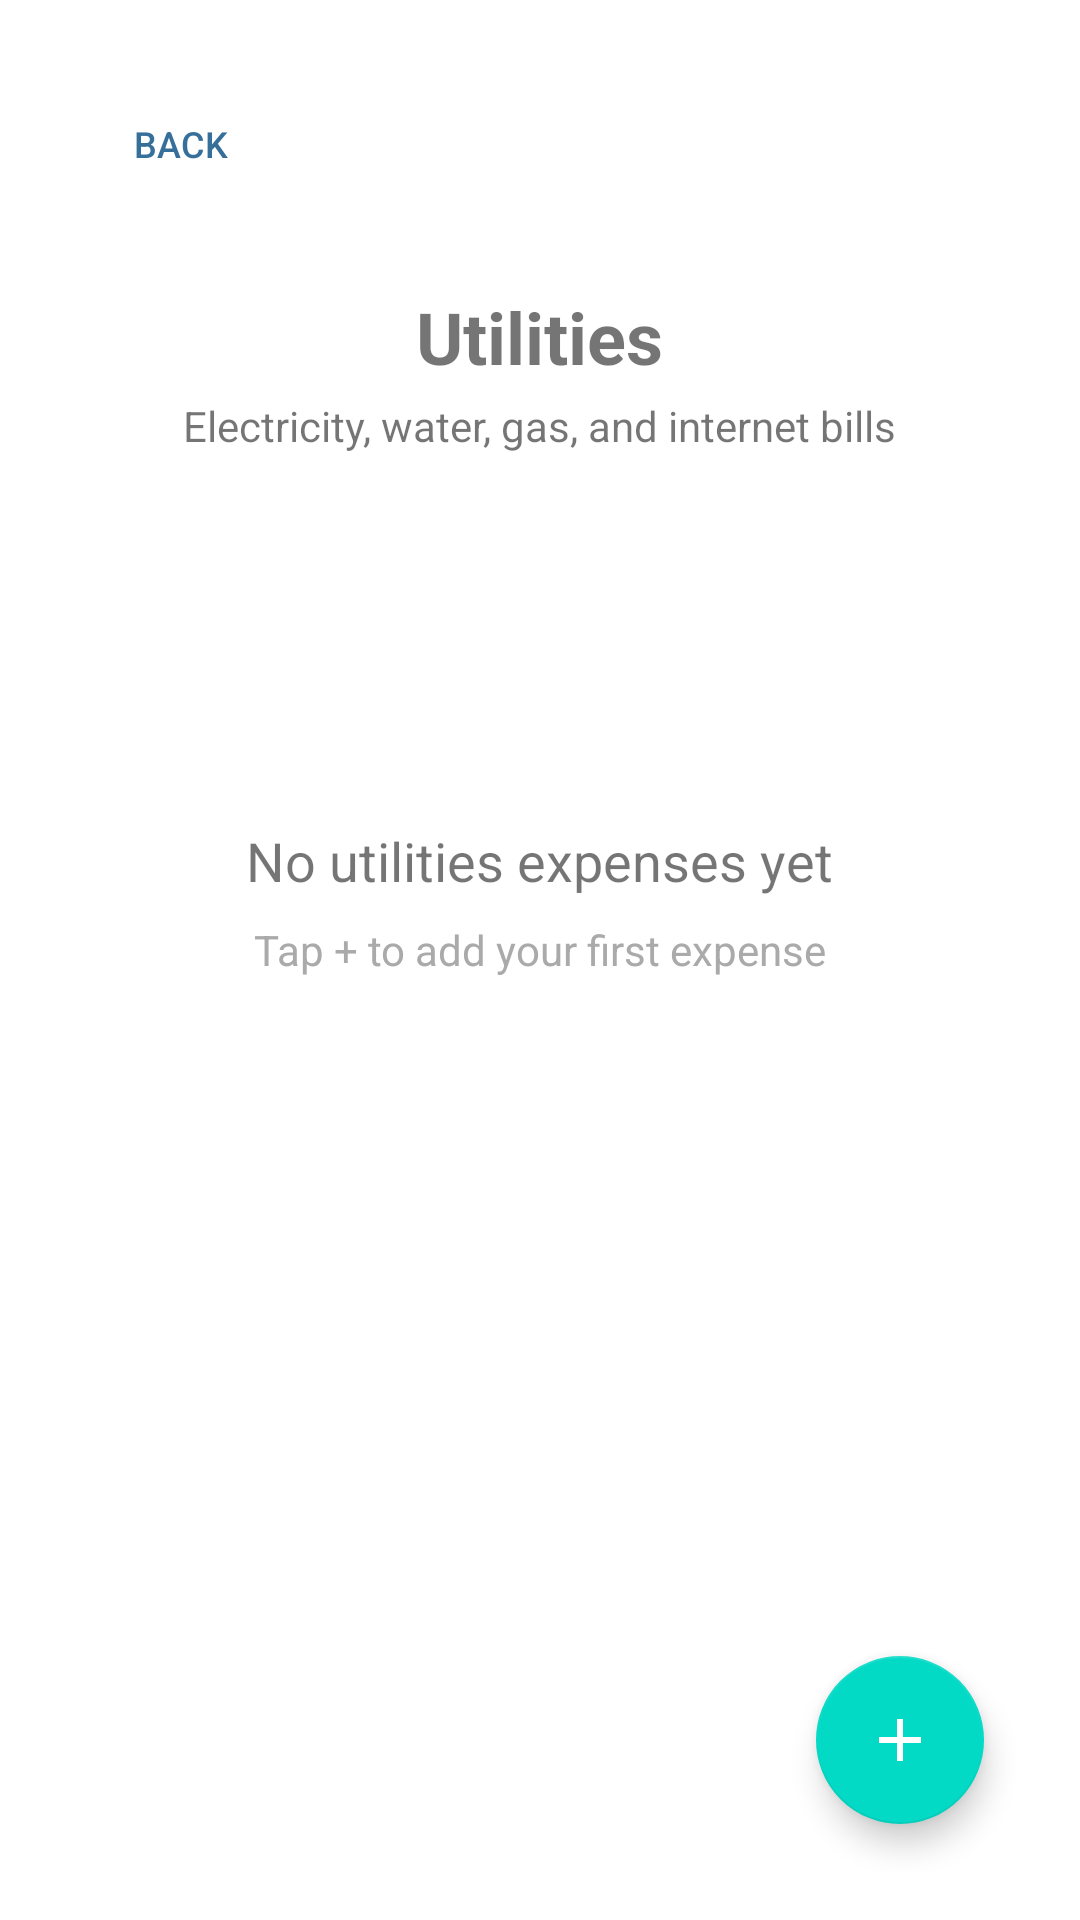

Point at icon controls on the screen. Image size 1080x1920, points as point (x, y).
Add expense: point (900, 1740)
